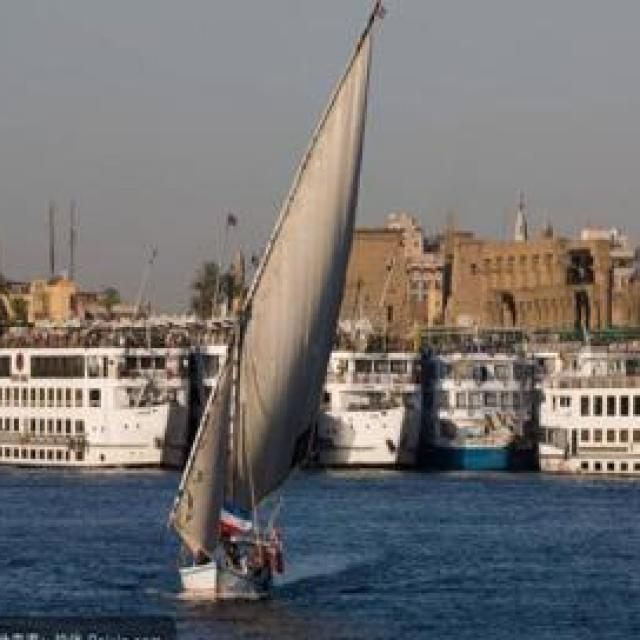sailboat: (162, 0, 371, 602)
